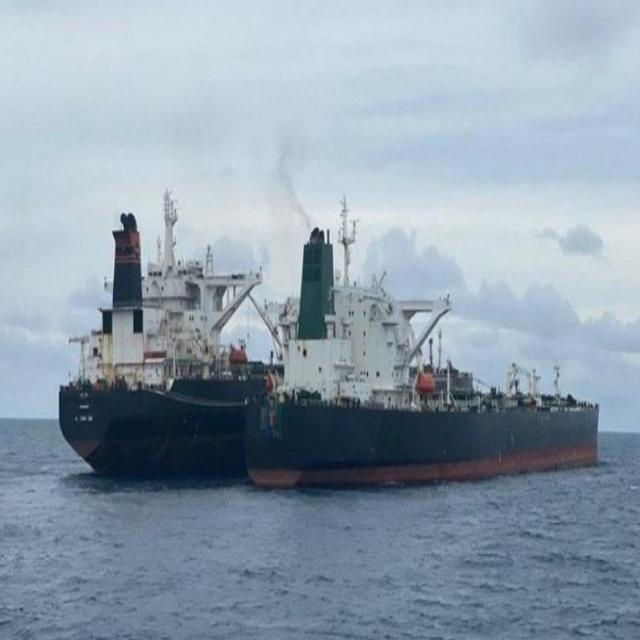cargoship: (259, 241, 593, 490), (60, 195, 281, 470)
